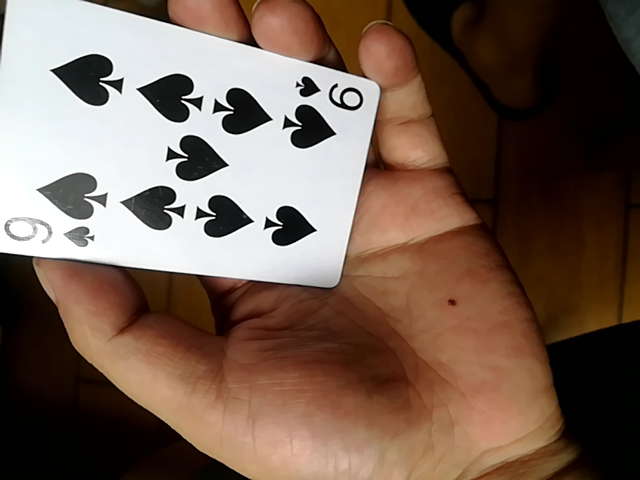ht 9: (4, 3, 379, 293)
